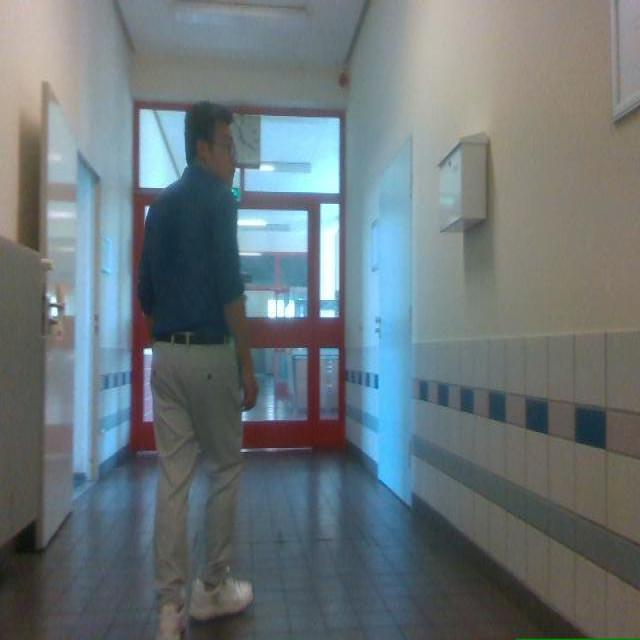humans: (138, 101, 257, 639)
